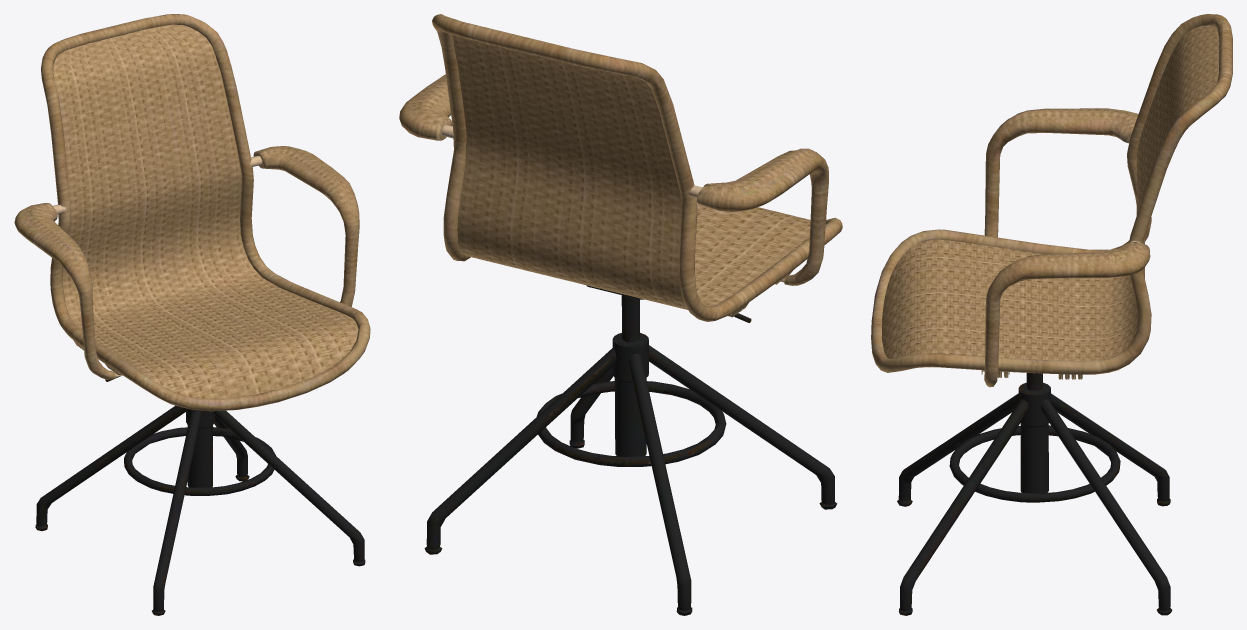
3 renders of one model, left to right at view 1: azimuth 30°, elevation 25°; view 2: azimuth 150°, elevation 25°; view 3: azimuth 270°, elevation 25°, orthographic. The views are drawn at different scales.
Parts seen in each view (by area): view 1: Mesh_0; view 2: Mesh_0; view 3: Mesh_0.
Part boxes in pixels (left/top/right/bottom): Mesh_0: left=14, top=14, right=370, bottom=615; Mesh_0: left=399, top=14, right=842, bottom=615; Mesh_0: left=871, top=14, right=1232, bottom=615.
Bounding box in the file's own units: 0.6973 × 1.02 × 0.6588.
1 material, 1 textured.
